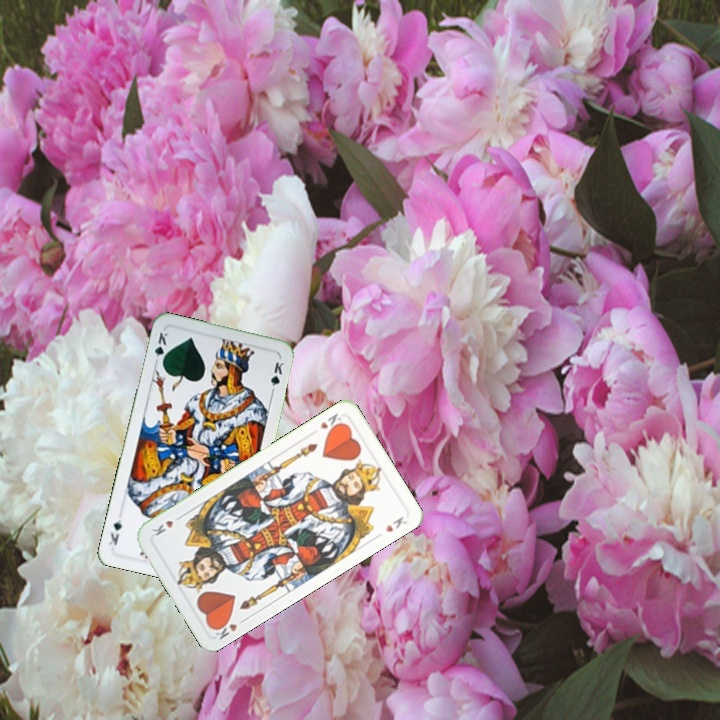GK: (150, 326, 170, 368)
HK: (209, 614, 249, 642), (316, 409, 345, 435)
